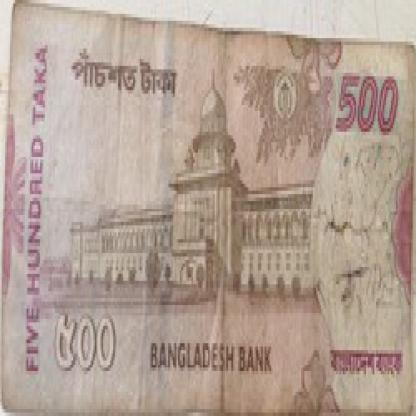500 taka: (48, 298, 135, 381), (323, 66, 404, 152)
currency: (9, 0, 414, 413)
